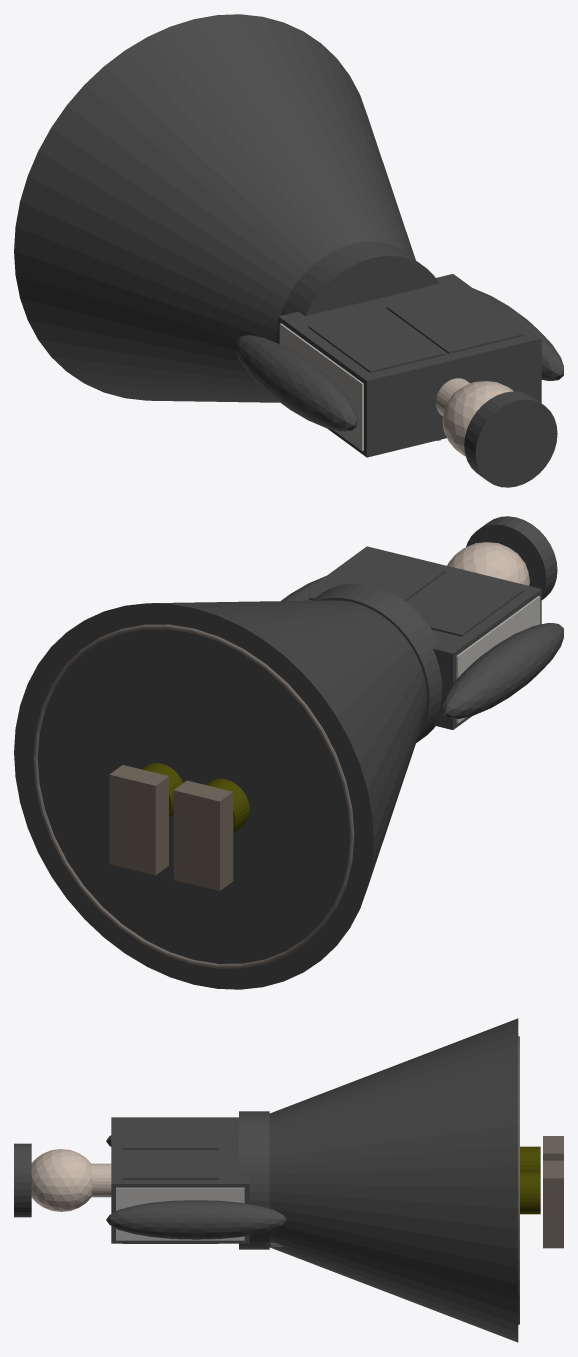
File: MASTER_069_STAGE3_DETAIL.glb
3 views of the same model, one above another, from view 1: azimuth 30°, elevation 25°; view 2: azimuth 150°, elevation 25°; view 3: azimuth 270°, elevation 25° (orthographic). The views are drawn at different scales.
Visible parts, largest first — view 1: slot_lower_main__fund_i_gjatë, slot_upper_inner__këmishë, slot_waist__brez, slot_headwear__mbulesë_koke, slot_upper_inner_sleeve_L, slot_upper_outer__jelek_L, slot_upper_outer__jelek_R, mannequin_torso, mannequin_head, slot_upper_inner_sleeve_R; view 2: slot_lower_main__fund_i_gjatë, slot_footwear__opinga_L, slot_footwear__opinga_R, slot_upper_inner_sleeve_L, detail_skirt_hem, slot_upper_inner__këmishë, slot_waist__brez, slot_upper_outer__jelek_L, slot_headwear__mbulesë_koke, slot_upper_outer__jelek_R, mannequin_head, mannequin_torso (+2 smaller); view 3: slot_lower_main__fund_i_gjatë, slot_upper_inner_sleeve_R, slot_upper_inner__këmishë, mannequin_head, slot_waist__brez, slot_upper_outer__jelek_R, slot_upper_outer__jelek_L, mannequin_torso, slot_footwear__opinga_R, slot_headwear__mbulesë_koke, slot_legwear__çorape_R, mannequin_neck (+3 smaller).
Boxes of the visible parts, left/top/right/bottom form: slot_lower_main__fund_i_gjatë: left=14, top=14, right=415, bottom=402; slot_upper_inner__këmishë: left=278, top=274, right=541, bottom=457; slot_waist__brez: left=276, top=241, right=439, bottom=343; slot_headwear__mbulesë_koke: left=464, top=391, right=557, bottom=487; slot_upper_inner_sleeve_L: left=235, top=335, right=357, bottom=431; slot_upper_outer__jelek_L: left=308, top=308, right=445, bottom=373; slot_upper_outer__jelek_R: left=387, top=289, right=523, bottom=353; mannequin_torso: left=279, top=323, right=363, bottom=450; mannequin_head: left=442, top=381, right=513, bottom=456; slot_upper_inner_sleeve_R: left=473, top=288, right=563, bottom=380; slot_lower_main__fund_i_gjatë: left=14, top=600, right=426, bottom=989; slot_footwear__opinga_L: left=173, top=780, right=233, bottom=890; slot_footwear__opinga_R: left=109, top=765, right=168, bottom=875; slot_upper_inner_sleeve_L: left=442, top=623, right=563, bottom=719; detail_skirt_hem: left=33, top=624, right=354, bottom=968; slot_upper_inner__këmishë: left=293, top=546, right=541, bottom=729; slot_waist__brez: left=312, top=583, right=442, bottom=742; slot_upper_outer__jelek_L: left=407, top=571, right=523, bottom=636; slot_headwear__mbulesë_koke: left=466, top=516, right=557, bottom=599; slot_upper_outer__jelek_R: left=308, top=552, right=445, bottom=601; mannequin_head: left=447, top=542, right=529, bottom=585; mannequin_torso: left=456, top=596, right=540, bottom=723; slot_lower_main__fund_i_gjatë: left=269, top=1018, right=518, bottom=1342; slot_upper_inner_sleeve_R: left=106, top=1200, right=286, bottom=1239; slot_upper_inner__këmishë: left=111, top=1117, right=249, bottom=1243; mannequin_head: left=31, top=1149, right=92, bottom=1211; slot_waist__brez: left=239, top=1111, right=269, bottom=1249; slot_upper_outer__jelek_R: left=122, top=1150, right=218, bottom=1243; slot_upper_outer__jelek_L: left=122, top=1120, right=218, bottom=1149; mannequin_torso: left=116, top=1187, right=244, bottom=1240; slot_footwear__opinga_R: left=543, top=1160, right=563, bottom=1248; slot_headwear__mbulesë_koke: left=14, top=1143, right=31, bottom=1217; slot_legwear__çorape_R: left=520, top=1171, right=540, bottom=1214; mannequin_neck: left=91, top=1163, right=111, bottom=1197.
Size of the model in its own units: 1.01 by 1.01 by 1.71.
